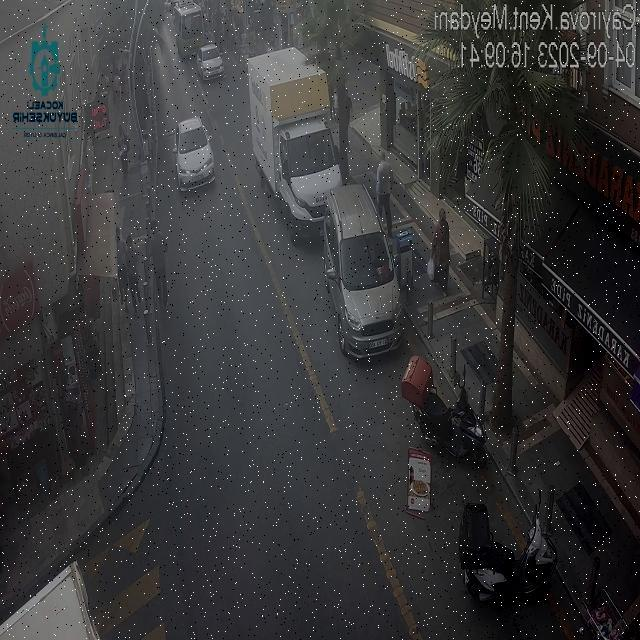Bus: (171, 4, 207, 58)
Car: (171, 117, 217, 188), (196, 45, 227, 80)
Cycle: (456, 490, 556, 607), (404, 354, 486, 455)
Truck: (247, 45, 348, 241)
Van: (320, 184, 406, 357)
